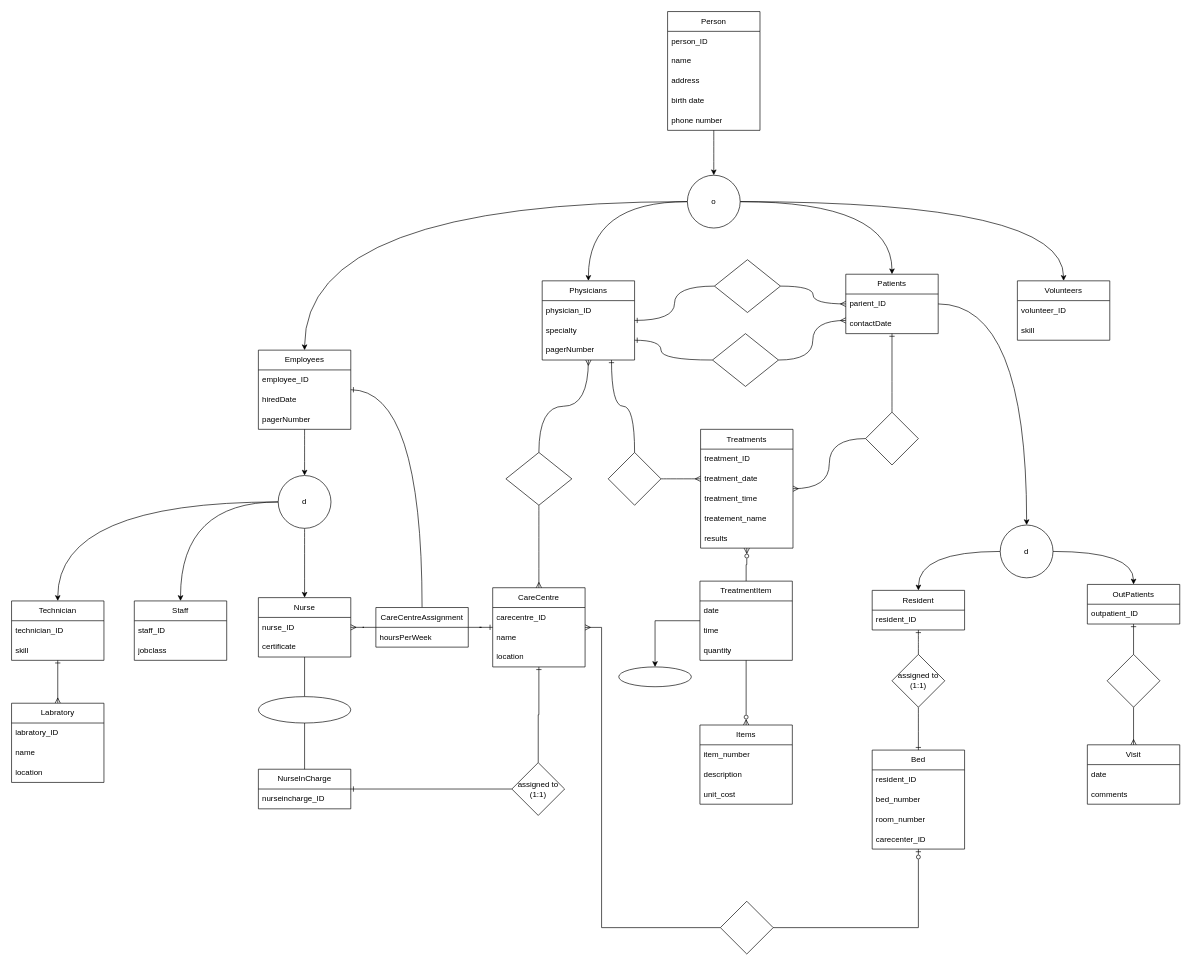
Some shapes in this 1191 by 966 pixel diagram are drawn without their labels. Each missing label, with the centre of its shape:
"assigned to (0:M)" belongs at (746,927).
"assigned to (M:M)" belongs at (538,478).
"certificate = 'RN'" belongs at (304,709).
"performs (1:M)" belongs at (634,478).
"receives (1:M)" belongs at (891,438).
"referred by (1:M)" belongs at (747,286).
"responsible for (1:M)" belongs at (745,359).
"TotalCost" belongs at (654,676).
"visit (1:M)" belongs at (1133,680).
